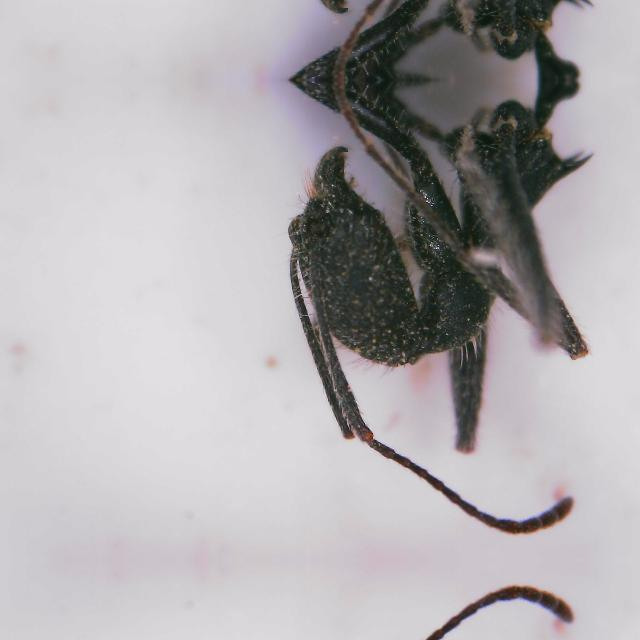Apheanogaster: (216, 80, 636, 532)
